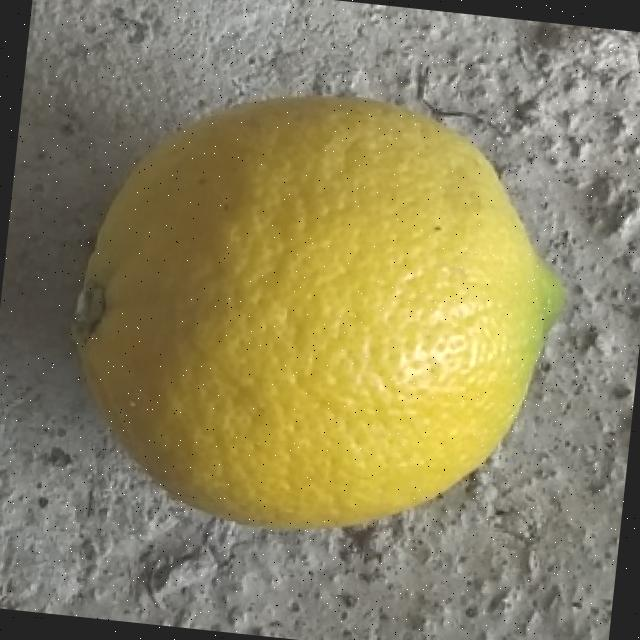Ripe: (48, 64, 588, 564)
